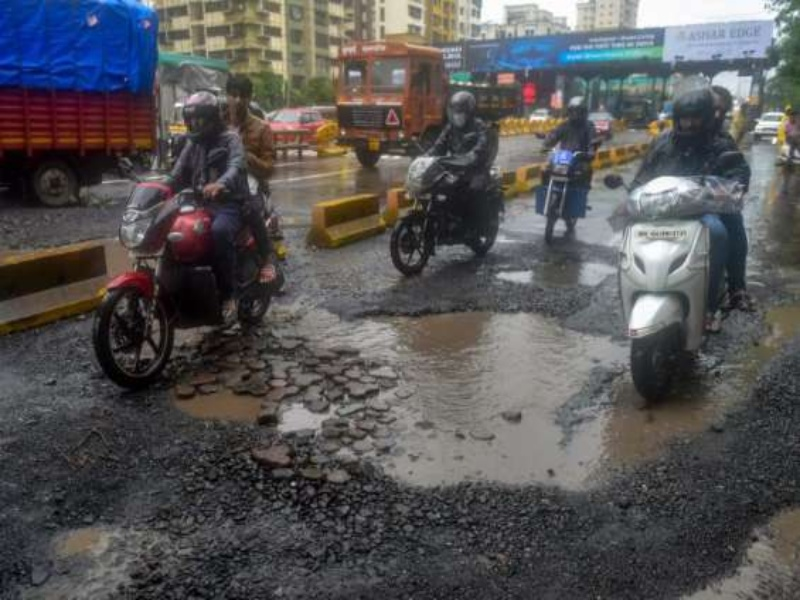pothole: (357, 377, 640, 494), (289, 306, 627, 377), (178, 353, 363, 430), (490, 260, 623, 290), (762, 296, 800, 352)
